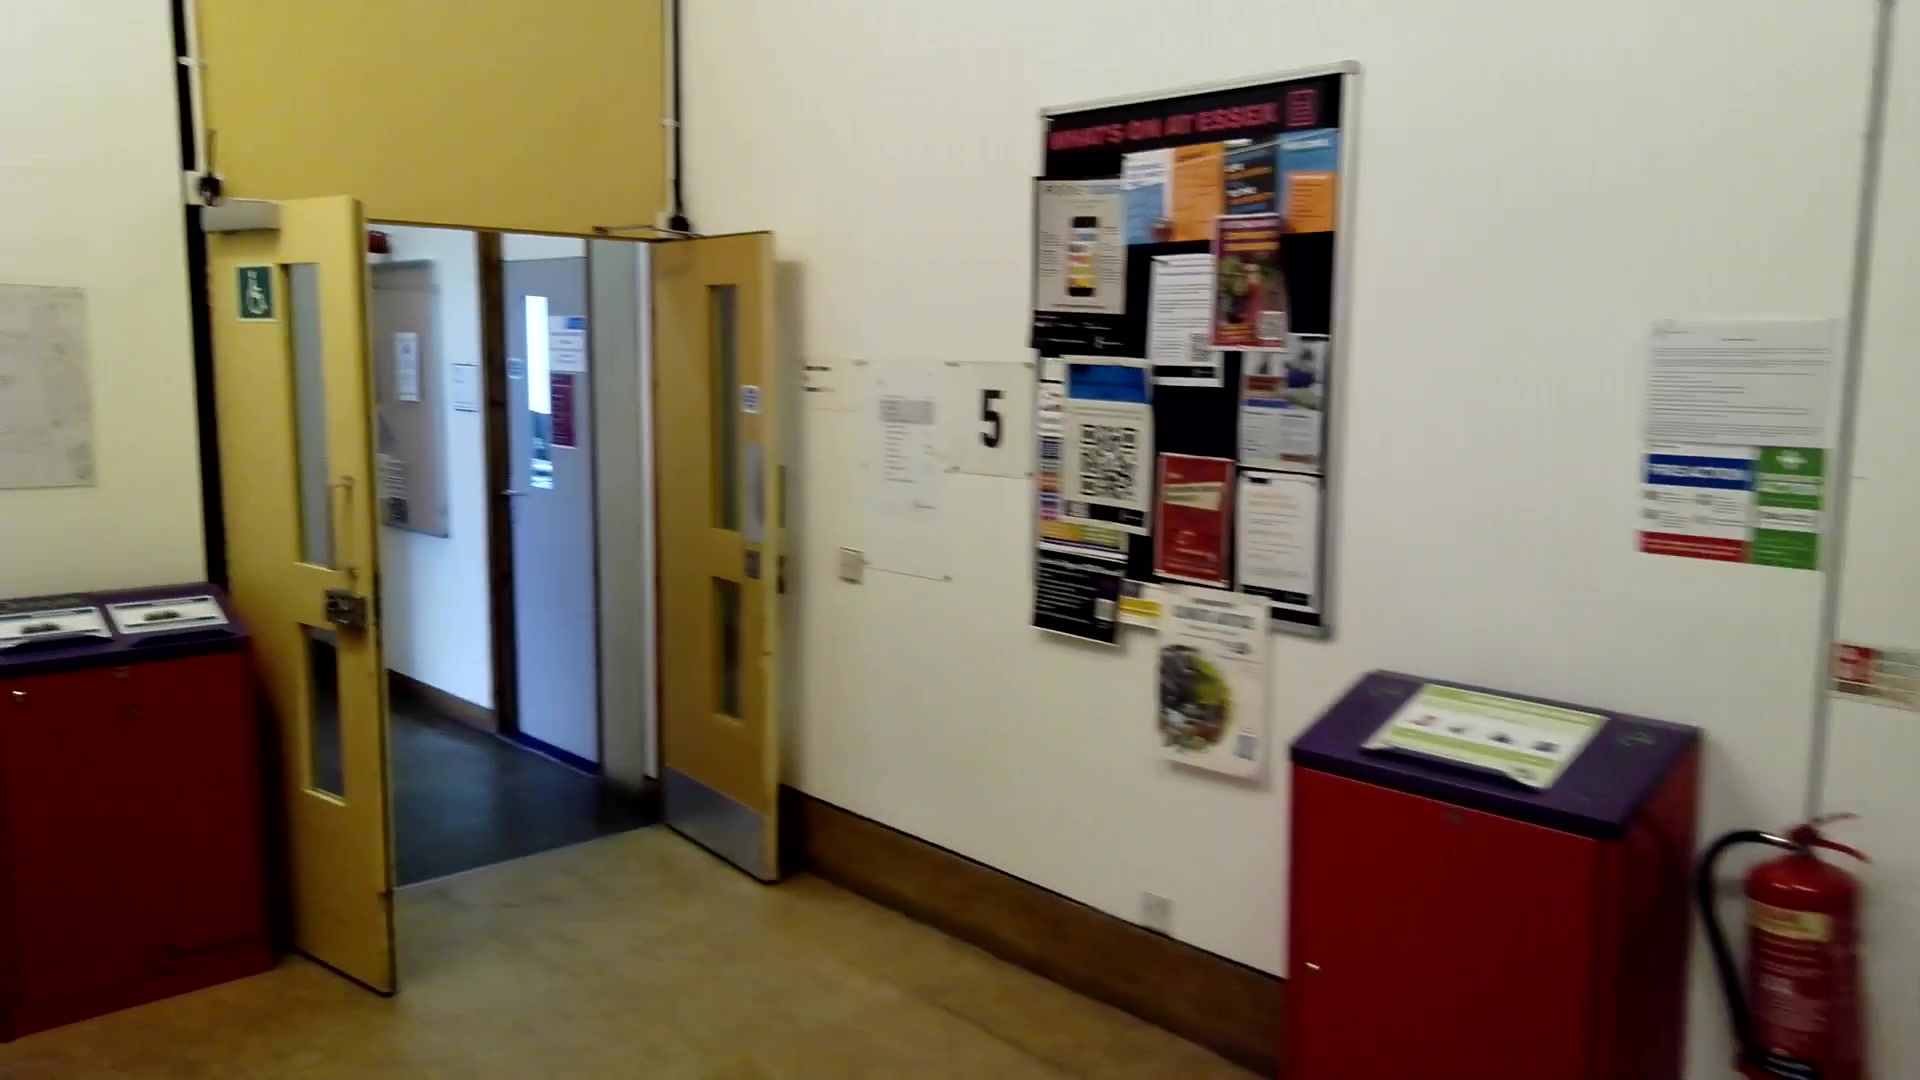Bin: (1286, 655, 1681, 1080), (5, 589, 295, 1013)
Door: (185, 183, 436, 1011), (633, 222, 825, 920)
